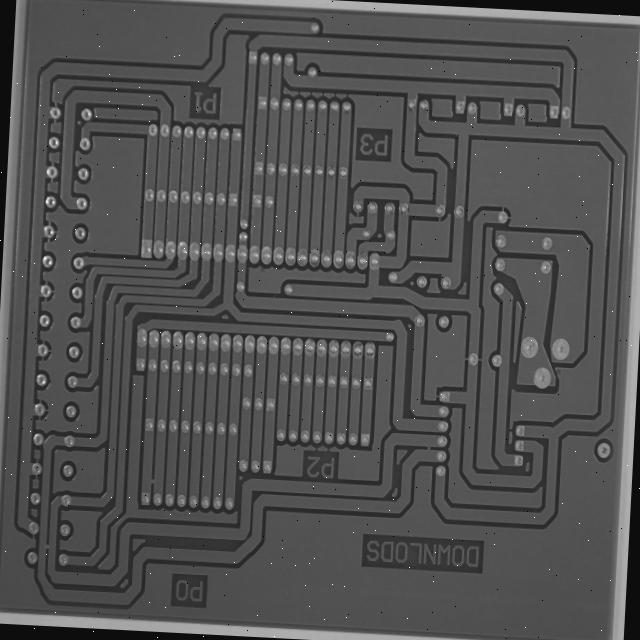short: (147, 523, 176, 554), (37, 601, 60, 627), (451, 490, 469, 518)
